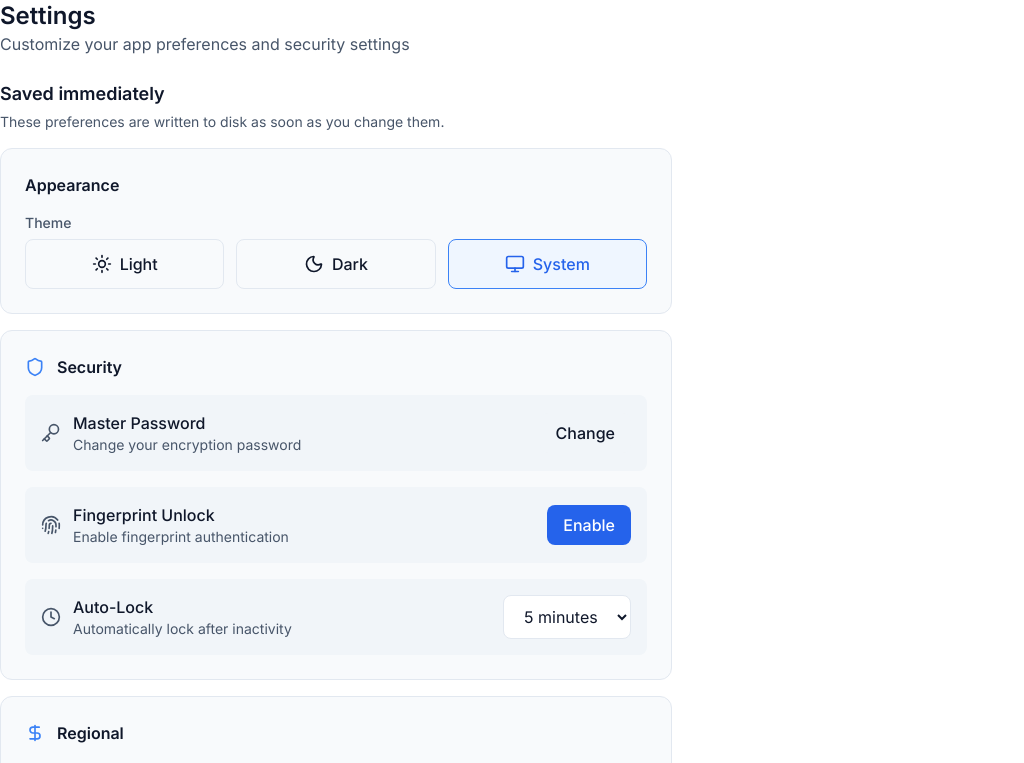
Test case: SettingsPage › hostile › shows change-password error when auth update fails
Click the button "Change" at (585, 433), box [540, 413, 631, 453]
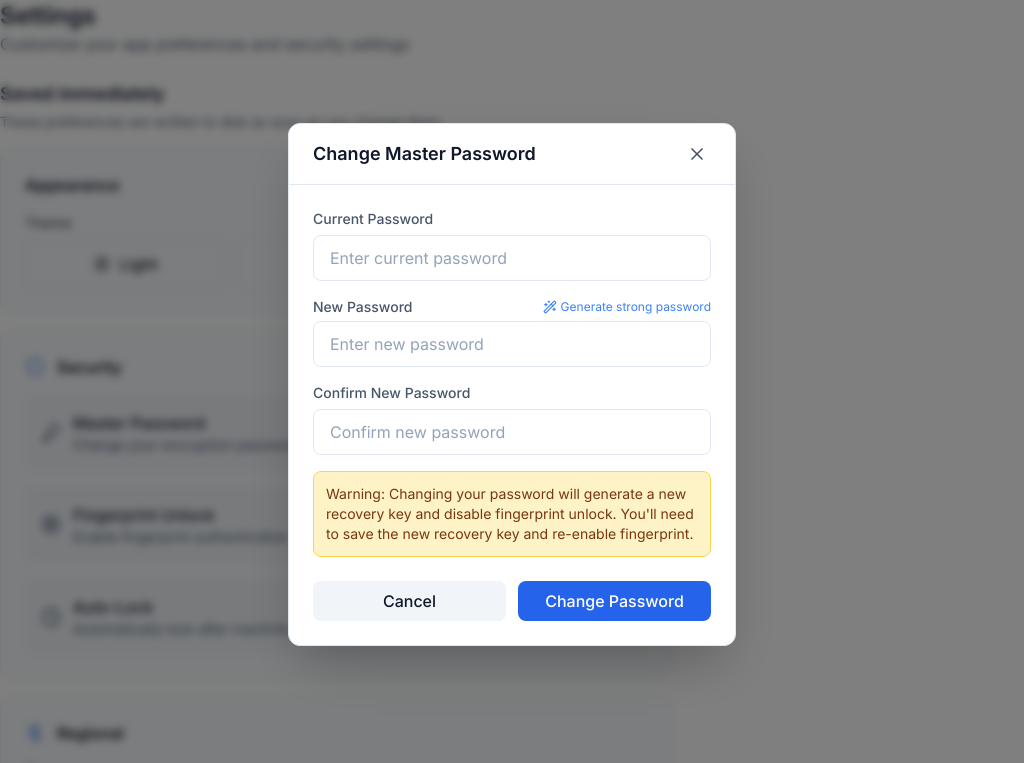
Type "old-password" into the password field labelled "Current Password" at (512, 258), box [313, 234, 711, 280]
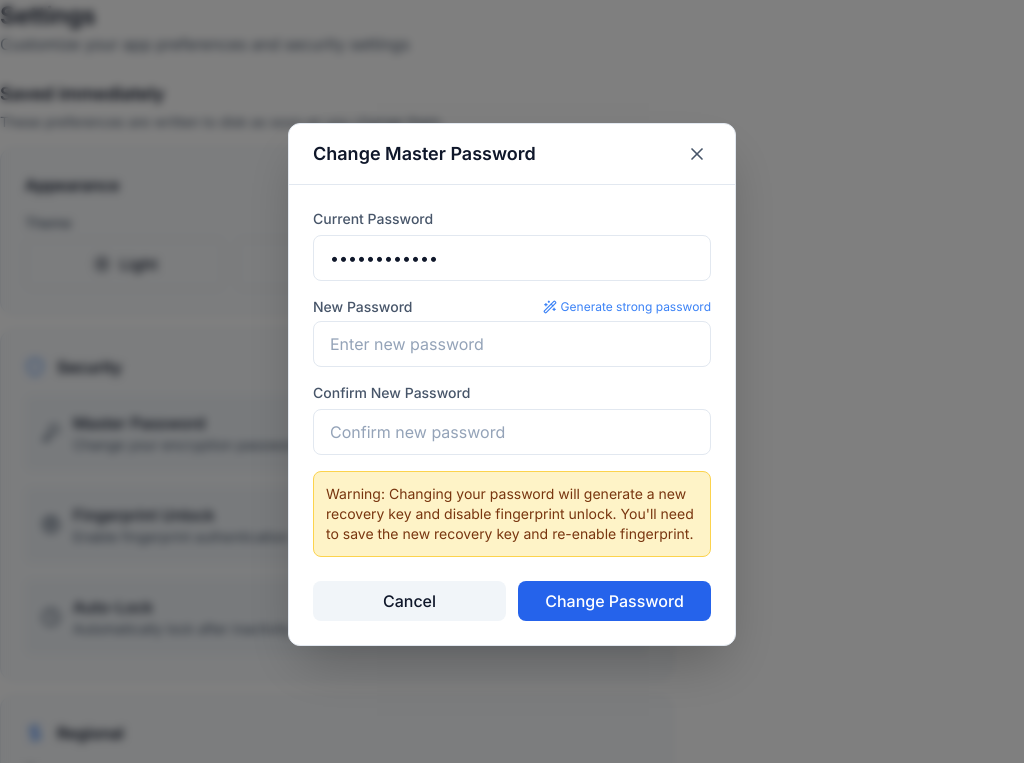
Type "new-password-123" into the password field labelled "New Password" at (512, 344), box [313, 320, 711, 366]
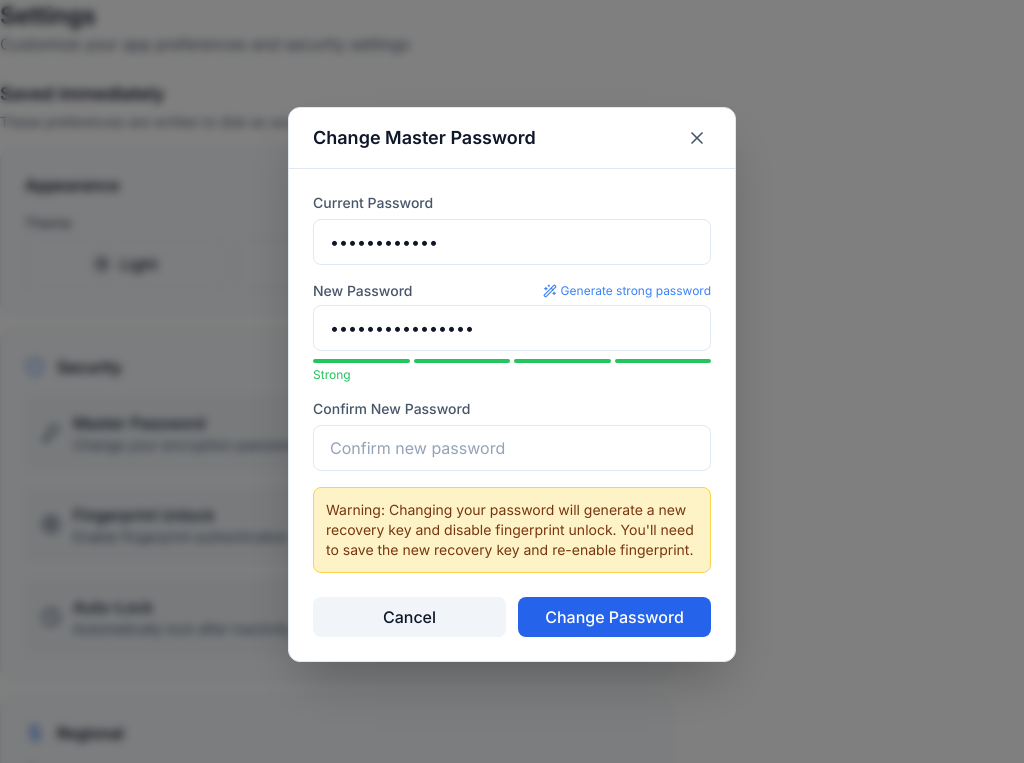
Type "new-password-123" into the password field labelled "Confirm New Password" at (512, 448), box [313, 424, 711, 470]
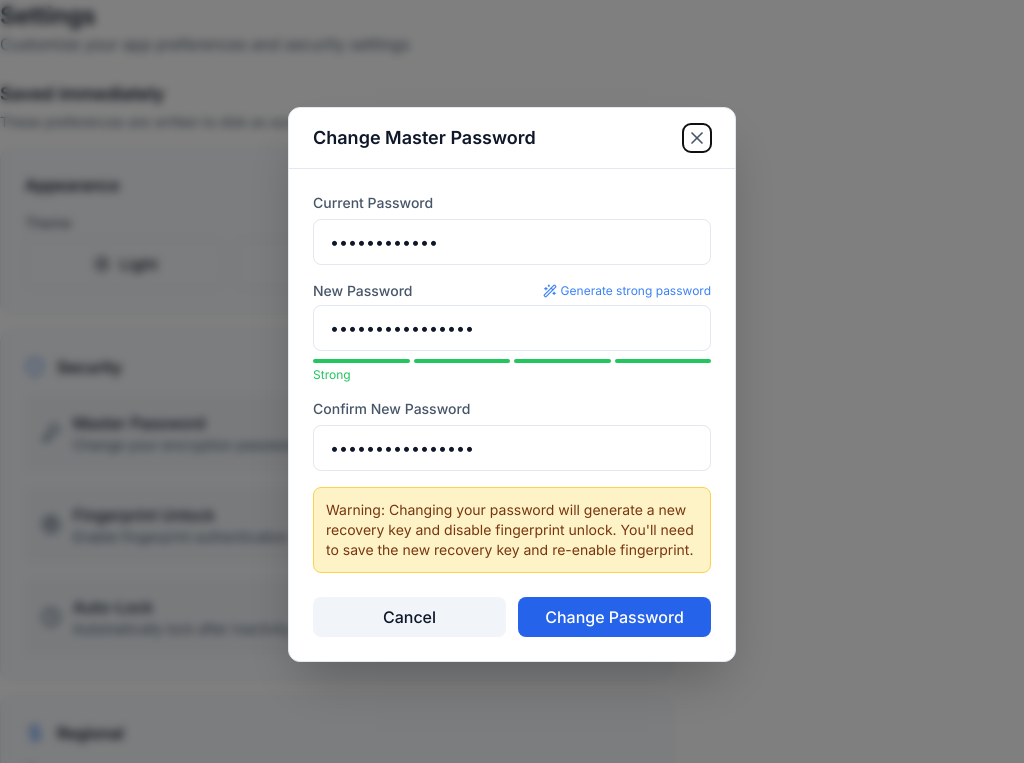
Click the button "Change Password" at (614, 616), box [518, 596, 711, 636]
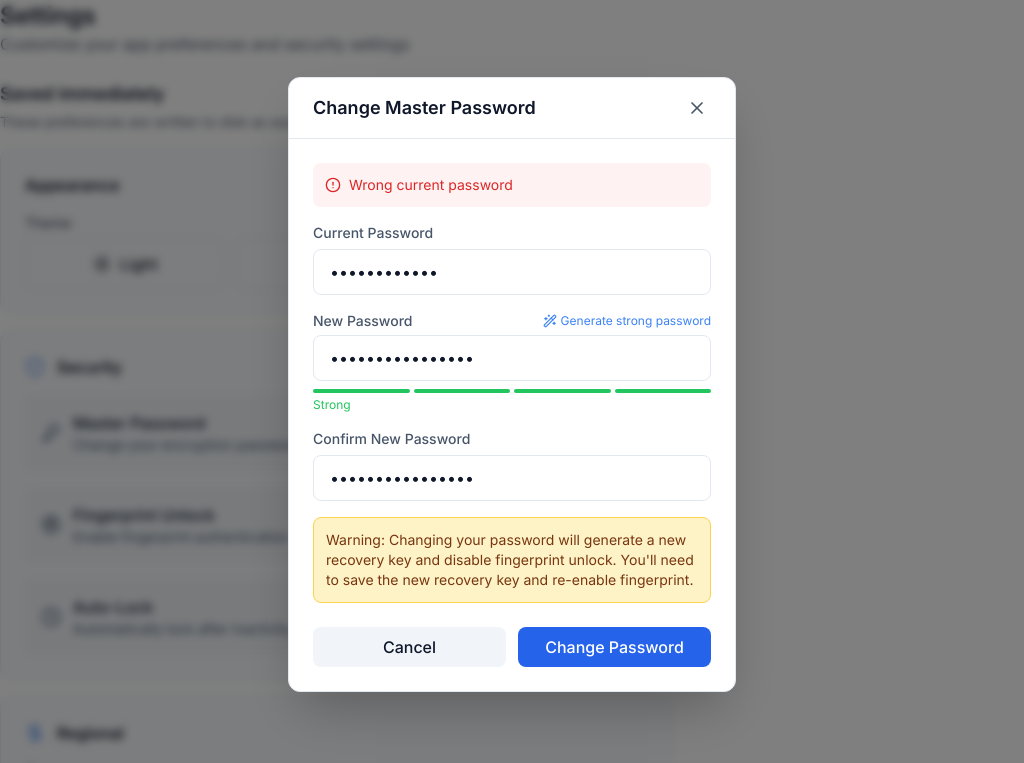
expect the text "Wrong current password" is shown: met, box [313, 162, 711, 206]
